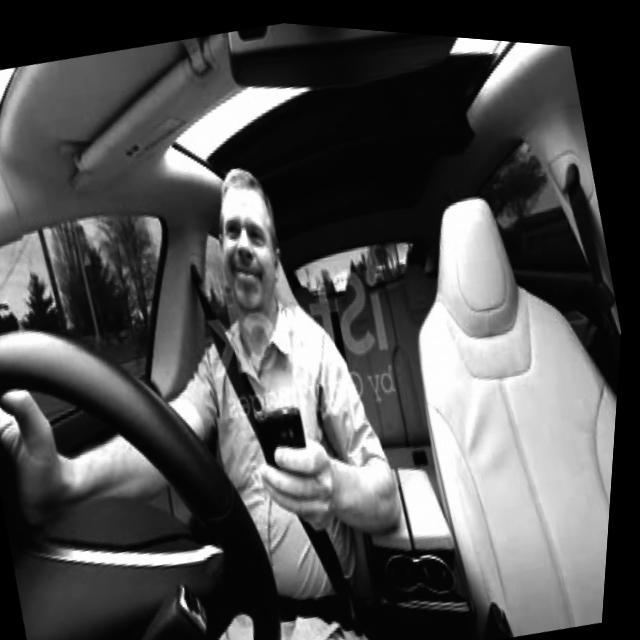PhoneCall: (250, 392, 331, 518)
